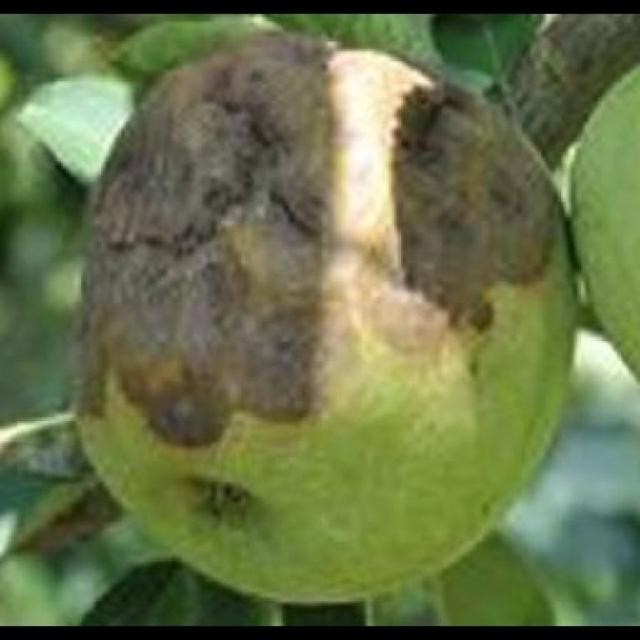Rotten Apple: (62, 28, 588, 608)
